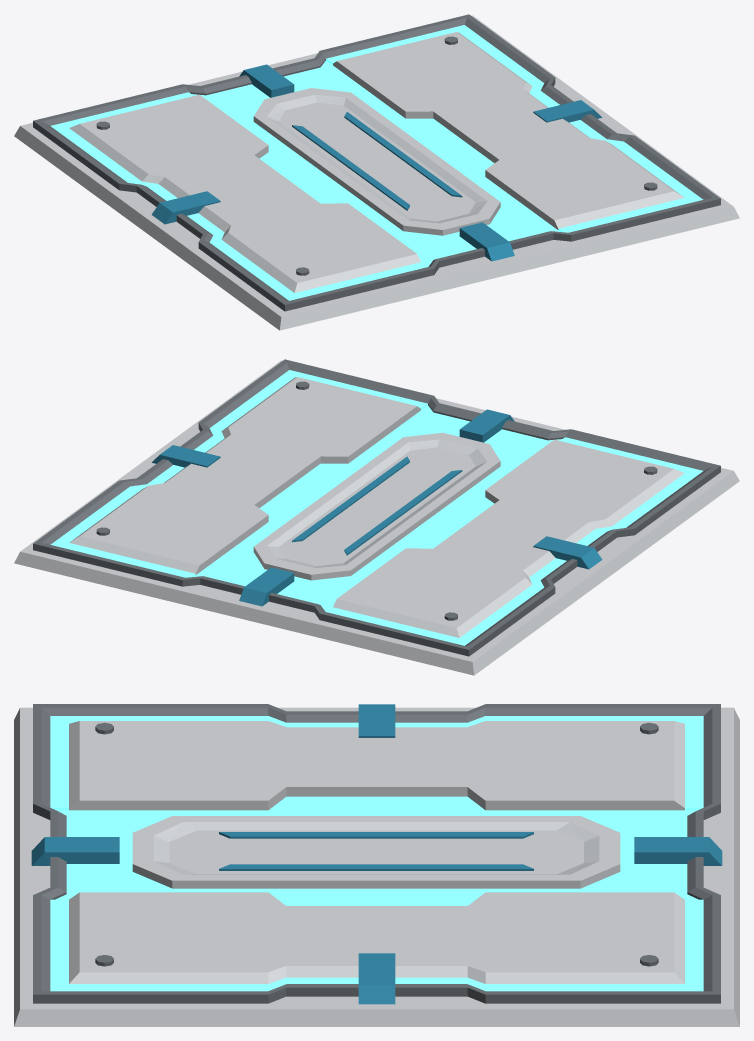
The model's file is floor_basic2-CDhvAGMW.glb.
The picture shows the model from 3 angles, top to bottom: view 1: azimuth 30°, elevation 25°; view 2: azimuth 150°, elevation 25°; view 3: azimuth 270°, elevation 25°; orthographic projection. The views are drawn at different scales.
Parts seen in each view (by area): view 1: FloorTile_Basic2; view 2: FloorTile_Basic2; view 3: FloorTile_Basic2.
Part boxes in pixels (box(x1,y1,x2,y2)): FloorTile_Basic2: box(14, 14, 739, 330); FloorTile_Basic2: box(14, 359, 739, 675); FloorTile_Basic2: box(14, 704, 739, 1026).
Bounding box in the file's own units: 2 × 0.0934 × 2.
